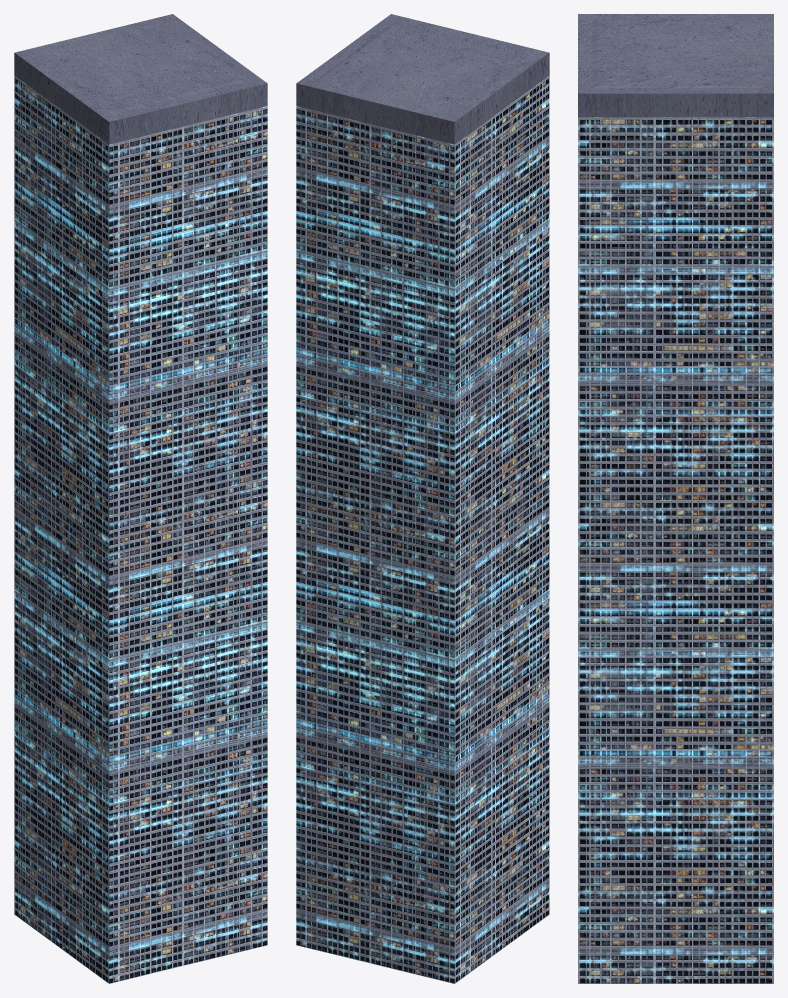
The model's file is great-skyscraper.glb.
The picture shows the model from 3 angles, left to right: view 1: azimuth 30°, elevation 25°; view 2: azimuth 150°, elevation 25°; view 3: azimuth 270°, elevation 25°; orthographic projection. The views are drawn at different scales.
Visible parts, largest first — view 1: Cube.033; view 2: Cube.033; view 3: Cube.033.
Boxes of the visible parts, <box> form: Cube.033: <box>14,14,267,983</box>; Cube.033: <box>296,14,549,983</box>; Cube.033: <box>578,14,773,983</box>.
Size of the model in its own units: 55.25 by 288 by 57.26.
Materials: 1 (1 with a texture image).
